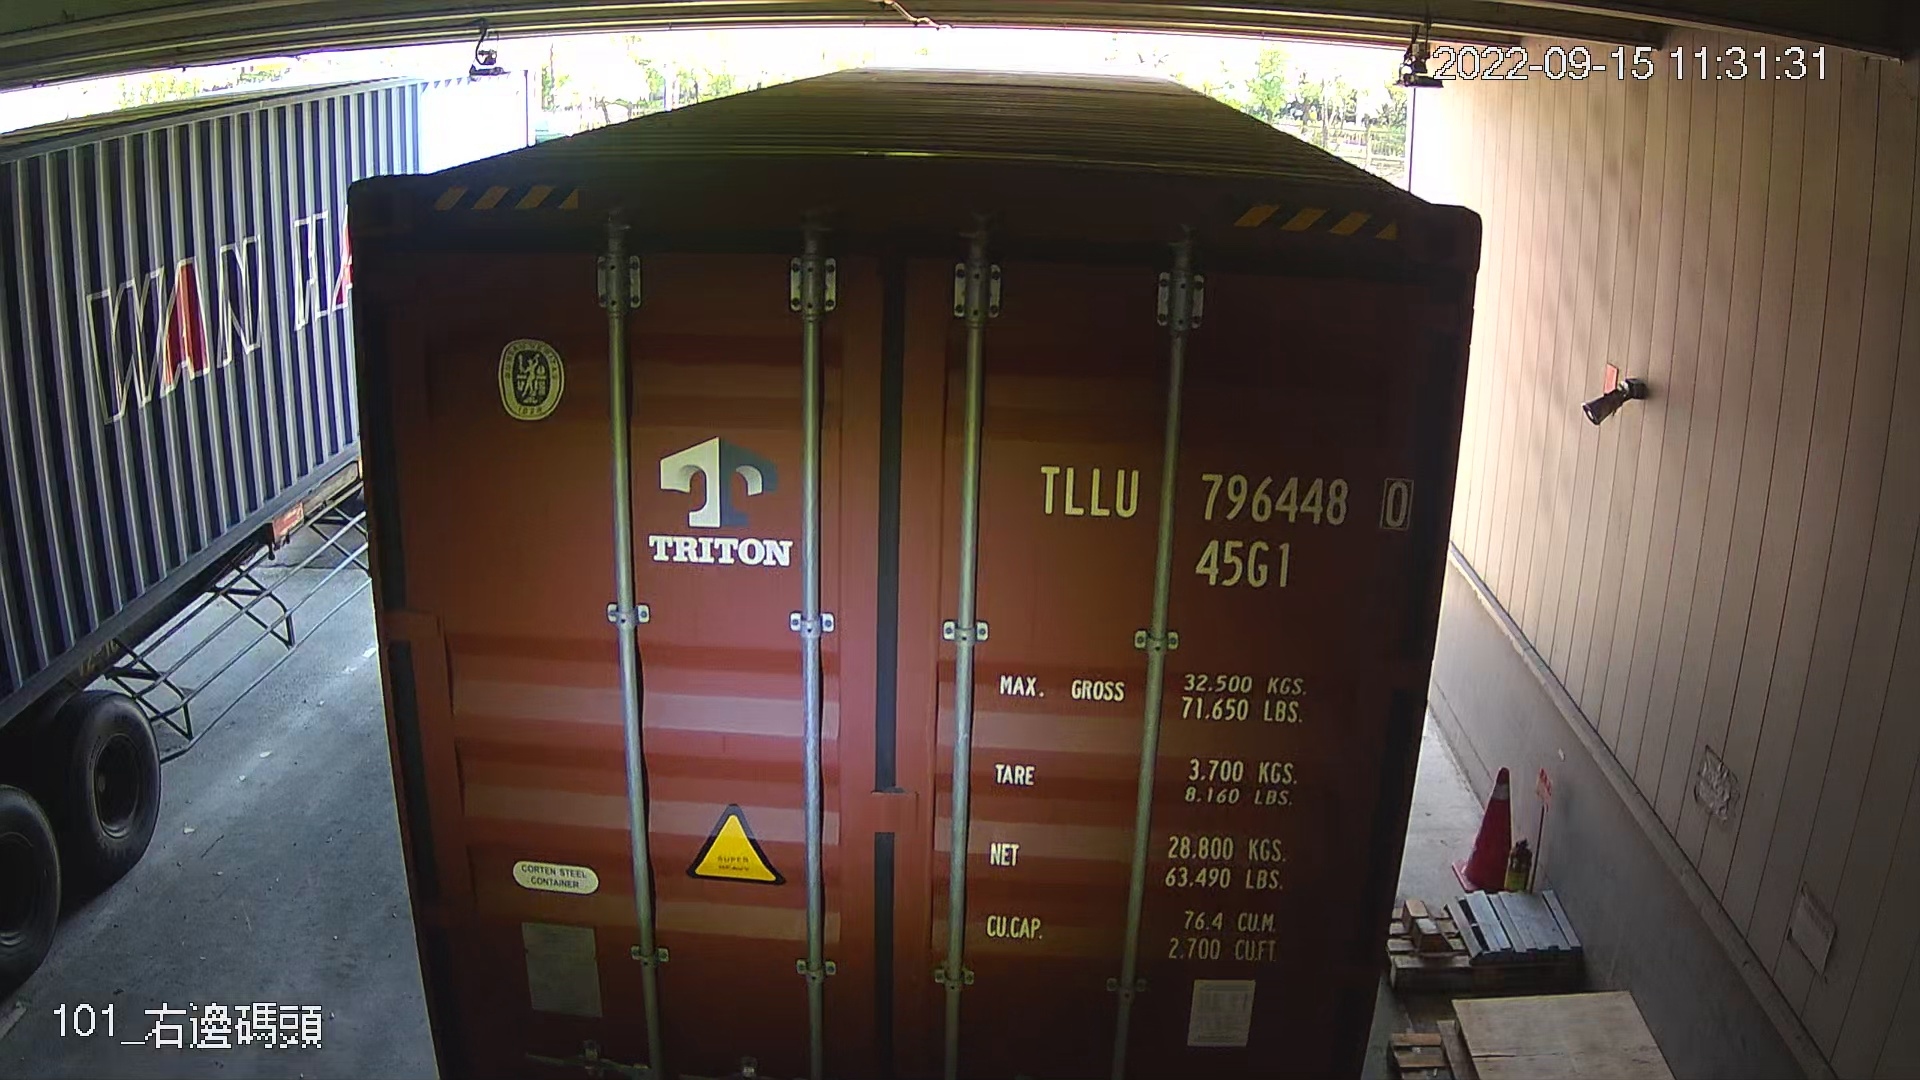container: (1022, 448, 1423, 595)
